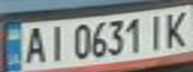0: (69, 20, 93, 61)
1: (121, 15, 145, 53)
3: (106, 17, 127, 56)
6: (90, 19, 112, 58)
A: (18, 24, 51, 64)
I: (42, 22, 69, 63), (142, 11, 169, 51)
K: (160, 7, 193, 50)
